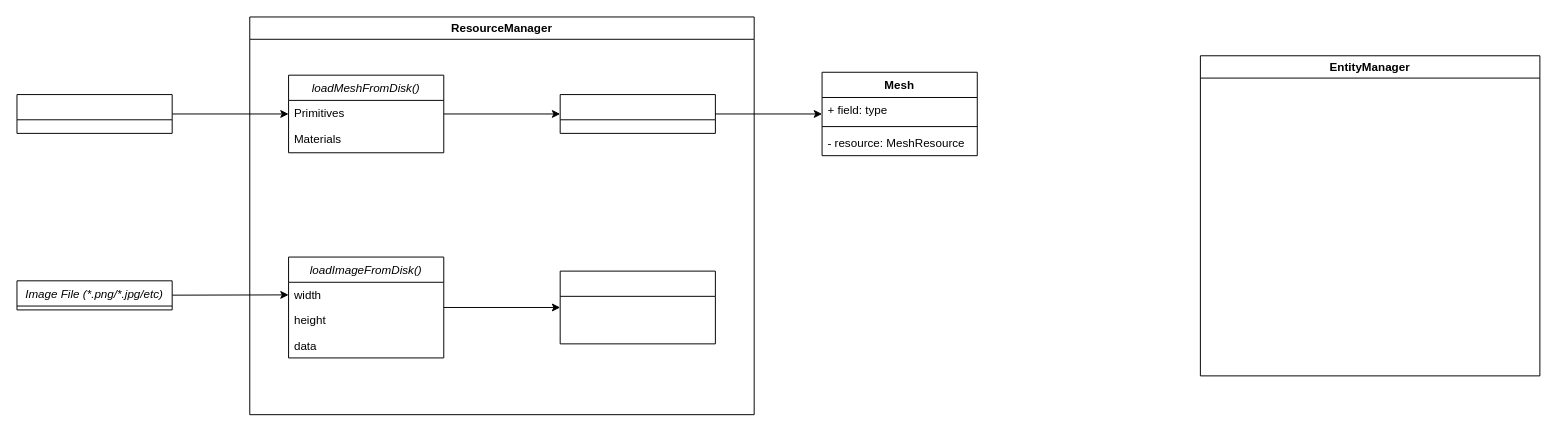
This 1557x432 diagram has some shape labels left out. Here are the shapes that lost their labels. From the top down, the centre of each, then its label:
At point (94, 113): "Mesh File (*.gltf)".
At point (637, 113): "MeshResource".
At point (637, 307): "ImageResource".
